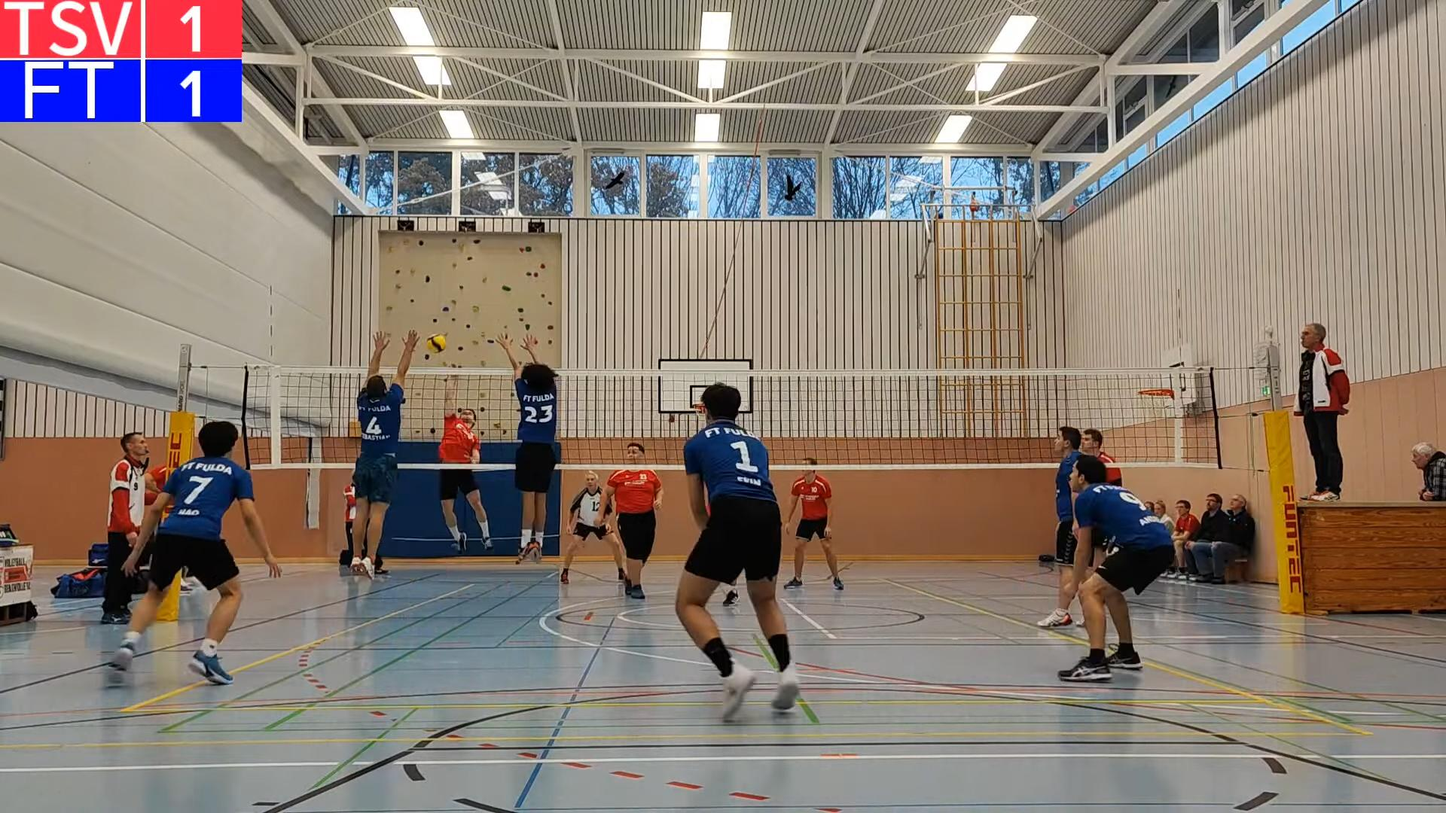attacco: (437, 362, 497, 551)
muro: (346, 324, 417, 580), (497, 328, 560, 568)
